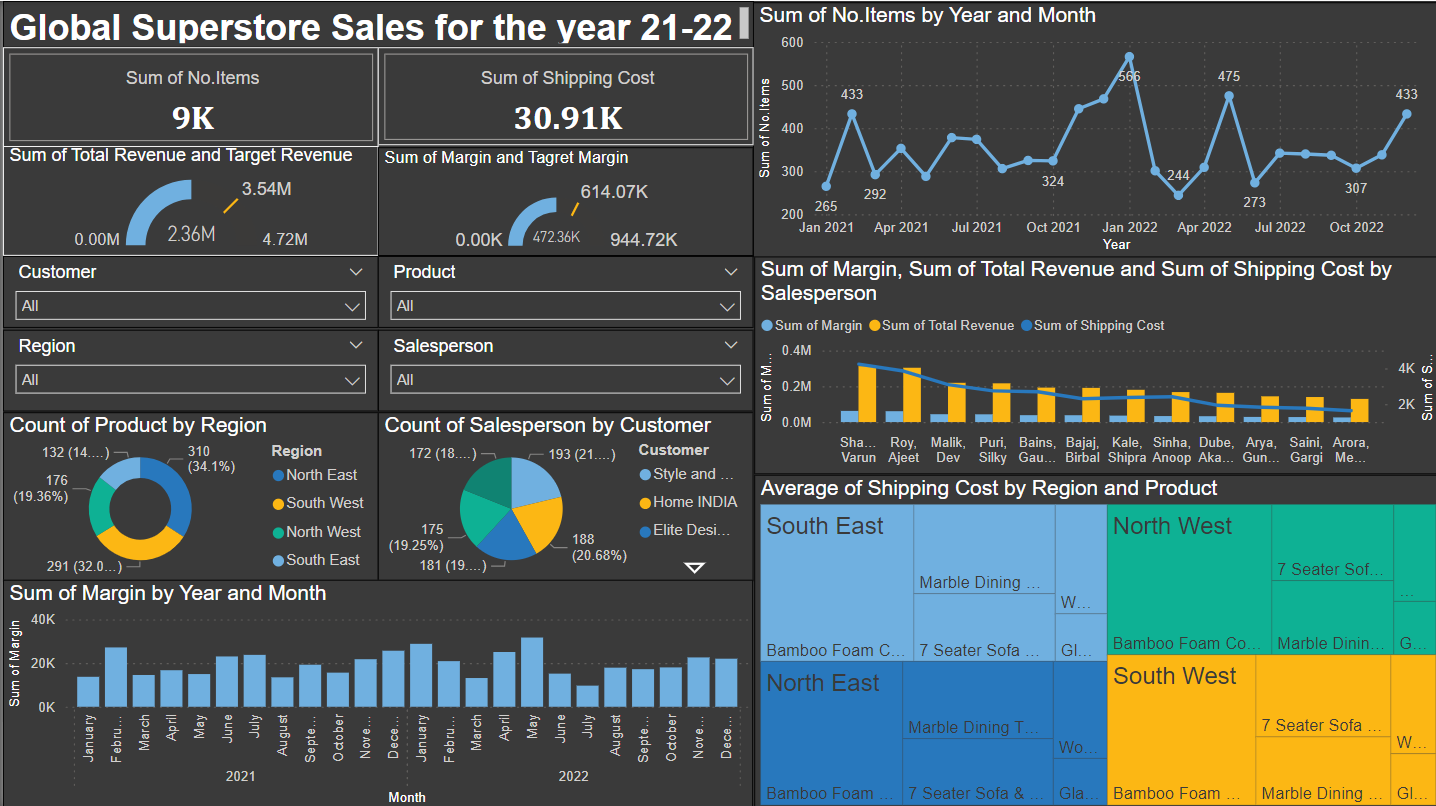

Layout of this report page (visuals, bound fields, positions):
{"tool":"powerbi","page":{"name":"Page 1","canvas":[1280,720],"ordinal":0},"visuals":[{"type":"pieChart","fields":{"Category":["Sales.Customer"],"Y":["Sales.No.Items"]},"box":[334.3,365.7,334.3,150],"z":0},{"type":"textbox","box":[0,0,668.6,41.4],"z":1000},{"type":"donutChart","fields":{"Category":["Raw_Data.Region"],"Y":["Raw_Data.Product"]},"box":[0,365.7,334.3,150],"z":2000},{"type":"slicer","fields":{"Values":["Raw_Data.Region"]},"box":[0,292.9,334.3,72.9],"z":3000},{"type":"slicer","fields":{"Values":["Raw_Data.Salesperson"]},"box":[334.3,292.9,334.3,72.9],"z":4000},{"type":"slicer","fields":{"Values":["Raw_Data.Product"]},"box":[334.3,227.1,334.3,64.3],"z":5000},{"type":"slicer","fields":{"Values":["Raw_Data.Customer"]},"box":[0,227.1,334.3,64.3],"z":6000},{"type":"lineClusteredColumnComboChart","fields":{"Category":["Raw_Data.Salesperson"],"Y":["Raw_Data.Margin","Raw_Data.Total Revenue"],"Y2":["Raw_Data.Shipping Cost"]},"box":[668.6,227.1,611.4,194.3],"z":7000},{"type":"gauge","fields":{"Y":["Sales.Total Revenue"],"TargetValue":["Sales.Target Revenue"]},"box":[0,127.1,334.3,100],"z":8000},{"type":"gauge","fields":{"Y":["Raw_Data.Margin"],"TargetValue":["Sales.Tagret Margin"]},"box":[334.3,130,334.3,97.1],"z":9000},{"type":"lineChart","fields":{"Y":["Raw_Data.No.Items"],"Category":["Sales.Date.Variation.Date Hierarchy.Year","Sales.Date.Variation.Date Hierarchy.Month"]},"box":[668.4,1.2,611.7,226.8],"z":10000},{"type":"cardVisual","fields":{"Data":["Raw_Data.Shipping Cost"]},"box":[334.3,41.4,334.3,87.1],"z":11000},{"type":"columnChart","fields":{"Category":["Sales.Date.Variation.Date Hierarchy.Year","Sales.Date.Variation.Date Hierarchy.Month"],"Y":["Sales.Margin"]},"box":[0,515.2,668.4,205.1],"z":12000},{"type":"treemap","fields":{"Group":["Raw_Data.Region"],"Details":["Raw_Data.Product"],"Values":["Raw_Data.Shipping Cost"]},"box":[668.6,421.4,611.4,298.6],"z":13000},{"type":"image","box":[247.3,47.1,86.9,76],"z":14000},{"type":"cardVisual","fields":{"Data":["Sales.No.Items"]},"box":[0,41.4,334.3,88.6],"z":15000},{"type":"image","box":[576.7,49.5,91.7,73.6],"z":16000},{"type":"image","box":[320.9,20.5,114.6,121.9],"z":17000},{"type":"image","box":[0,36.2,92.9,92.9],"z":18000}]}

Visuals, with their boxes in screenshot pixels (x1, y1, x2, y2), scaled from the page's 1280x720 canvas onto the 1436x806 screenshot:
pieChart - Sales.Customer x Sales.No.Items: detection(375, 409, 750, 577)
textbox: detection(0, 0, 750, 46)
donutChart - Raw_Data.Region x Raw_Data.Product: detection(0, 409, 375, 577)
slicer - Raw_Data.Region: detection(0, 328, 375, 409)
slicer - Raw_Data.Salesperson: detection(375, 328, 750, 409)
slicer - Raw_Data.Product: detection(375, 254, 750, 326)
slicer - Raw_Data.Customer: detection(0, 254, 375, 326)
lineClusteredColumnComboChart - Raw_Data.Salesperson x Raw_Data.Margin: detection(750, 254, 1435, 472)
gauge - Sales.Total Revenue x Sales.Target Revenue: detection(0, 142, 375, 254)
gauge - Raw_Data.Margin x Sales.Tagret Margin: detection(375, 146, 750, 254)
lineChart - Raw_Data.No.Items x Sales.Date.Variation.Date Hierarchy.Year: detection(750, 1, 1435, 255)
cardVisual - Raw_Data.Shipping Cost: detection(375, 46, 750, 144)
columnChart - Sales.Date.Variation.Date Hierarchy.Year x Sales.Date.Variation.Date Hierarchy.Month: detection(0, 577, 750, 805)
treemap - Raw_Data.Region x Raw_Data.Product: detection(750, 472, 1435, 805)
image: detection(277, 53, 375, 138)
cardVisual - Sales.No.Items: detection(0, 46, 375, 146)
image: detection(647, 55, 750, 138)
image: detection(360, 23, 489, 159)
image: detection(0, 41, 104, 145)
